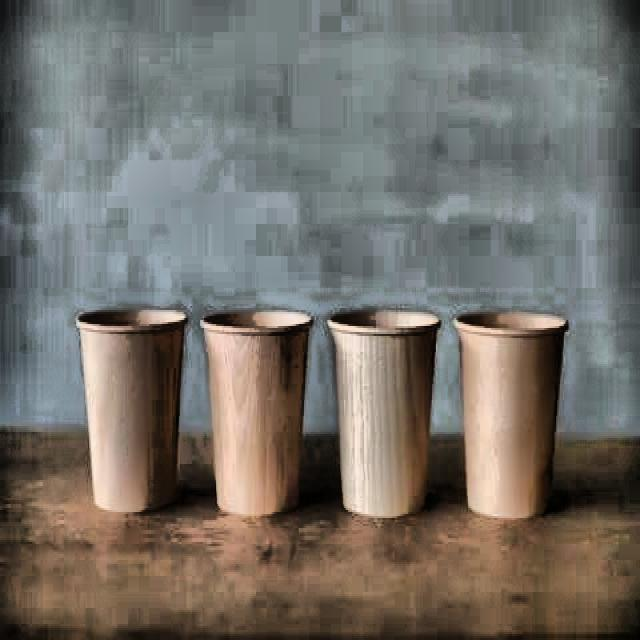Cup: (322, 285, 443, 530), (452, 302, 567, 533), (201, 304, 319, 515), (73, 301, 190, 509)
